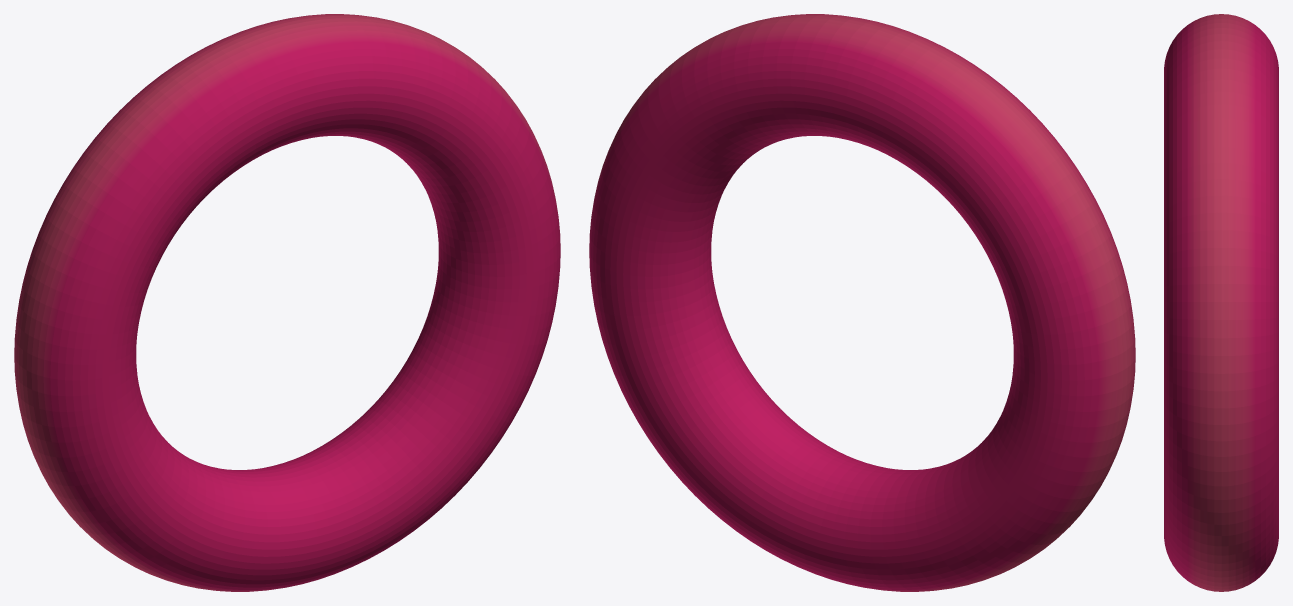
3 views of the same model, side by side, from view 1: azimuth 30°, elevation 25°; view 2: azimuth 150°, elevation 25°; view 3: azimuth 270°, elevation 25° (orthographic). The views are drawn at different scales.
Visible parts, largest first — view 1: world; view 2: world; view 3: world.
Boxes of the visible parts, box(x1,y1,x2,y2) form: world: box(14, 14, 560, 591); world: box(589, 14, 1135, 591); world: box(1164, 14, 1278, 591).
Size of the model in its own units: 34.13 by 34.13 by 6.79.
